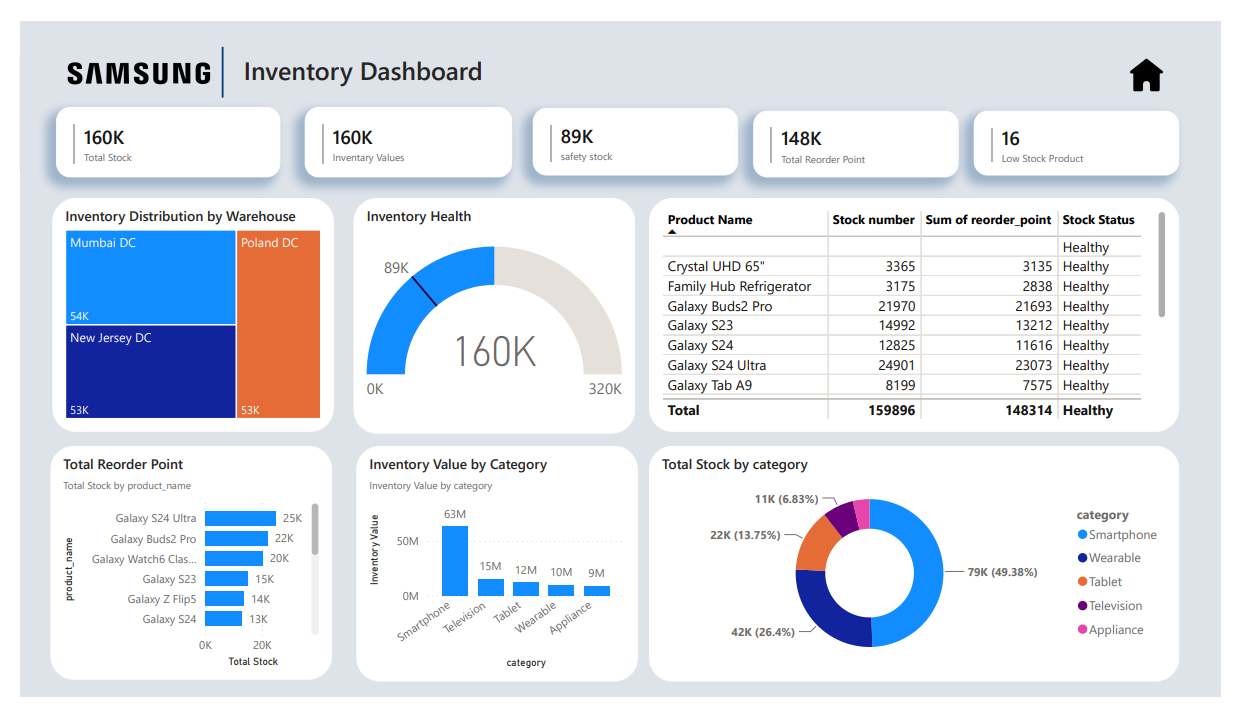

The dashboard page shown, as its layout file describes it:
{"tool":"powerbi","page":{"name":"Inventory","canvas":[1280,720],"ordinal":3},"visuals":[{"type":"image","box":[38.9,22.2,169.2,64.7],"z":1000},{"type":"shape","box":[139.7,27.2,153,53.5],"z":2000},{"type":"cardVisual","fields":{"Data":["Measures Table.Inventary Values"]},"box":[304.4,90.9,220.7,75],"z":3000},{"type":"cardVisual","fields":{"Data":["Measures Table.safety stock"]},"box":[546.8,92.3,219.3,72.1],"z":4000},{"type":"cardVisual","fields":{"Data":["Inventory.Total Reorder Point"]},"box":[782,95.2,219.3,70.7],"z":5000},{"type":"cardVisual","fields":{"Data":["Inventory.Low Stock Product"]},"box":[1017.4,95.3,218.6,70.9],"z":6000},{"type":"cardVisual","fields":{"Data":["Measures Table.Total Stock"]},"box":[39,90.9,239.5,75],"z":7000},{"type":"image","box":[1165.8,21.6,70.7,70.7],"z":8000},{"type":"clusteredColumnChart","title":"Inventory Value by Category","fields":{"Category":["dim_Product.category"],"Y":["Measures Table.Inventory Value"]},"box":[359.2,451.6,300.1,251],"z":9000},{"type":"clusteredBarChart","title":"Total Reorder Point","fields":{"Category":["dim_Product.product_name"],"Y":["Measures Table.Total Stock"]},"box":[33.2,451.6,300.1,249.6],"z":10000},{"type":"treemap","title":"Inventory Distribution by Warehouse","fields":{"Group":["dim_Facility.facility_name"],"Values":["Measures Table.Total Stock"]},"box":[34.6,187.6,300.1,249.6],"z":11000},{"type":"tableEx","fields":{"Values":["dim_Product.product_name","Sum(fact_Inventory.stock_level)","Sum(fact_Inventory.reorder_point)","Inventory.Stock Status"]},"box":[670.9,187.6,565.6,249.6],"z":12000},{"type":"gauge","title":"Inventory Health","fields":{"TargetValue":["Measures Table.safety stock"],"Y":["Measures Table.Total Stock"]},"box":[356.4,187.6,300,251],"z":13000},{"type":"shape","title":"Inventory Dashboard","box":[239.5,33.2,307.3,43.3],"z":14000},{"type":"donutChart","fields":{"Category":["dim_Product.category"],"Y":["Measures Table.Total Stock"]},"box":[670.9,451.6,565.6,251],"z":15000}]}

Visuals, with their boxes in screenshot pixels (x1, y1, x2, y2), scaled from the page's 1280x720 canvas onto the 1241x718 screenshot:
image: [left=38, top=22, right=202, bottom=87]
shape: [left=135, top=27, right=284, bottom=80]
cardVisual - Measures Table.Inventary Values: [left=295, top=91, right=509, bottom=165]
cardVisual - Measures Table.safety stock: [left=530, top=92, right=743, bottom=164]
cardVisual - Inventory.Total Reorder Point: [left=758, top=95, right=971, bottom=165]
cardVisual - Inventory.Low Stock Product: [left=986, top=95, right=1198, bottom=166]
cardVisual - Measures Table.Total Stock: [left=38, top=91, right=270, bottom=165]
image: [left=1130, top=22, right=1199, bottom=92]
"Inventory Value by Category" clusteredColumnChart: [left=348, top=450, right=639, bottom=701]
"Total Reorder Point" clusteredBarChart: [left=32, top=450, right=323, bottom=699]
"Inventory Distribution by Warehouse" treemap: [left=34, top=187, right=325, bottom=436]
tableEx - dim_Product.product_name x Sum(fact_Inventory.stock_level): [left=650, top=187, right=1199, bottom=436]
"Inventory Health" gauge: [left=346, top=187, right=636, bottom=437]
"Inventory Dashboard" shape: [left=232, top=33, right=530, bottom=76]
donutChart - dim_Product.category x Measures Table.Total Stock: [left=650, top=450, right=1199, bottom=701]
